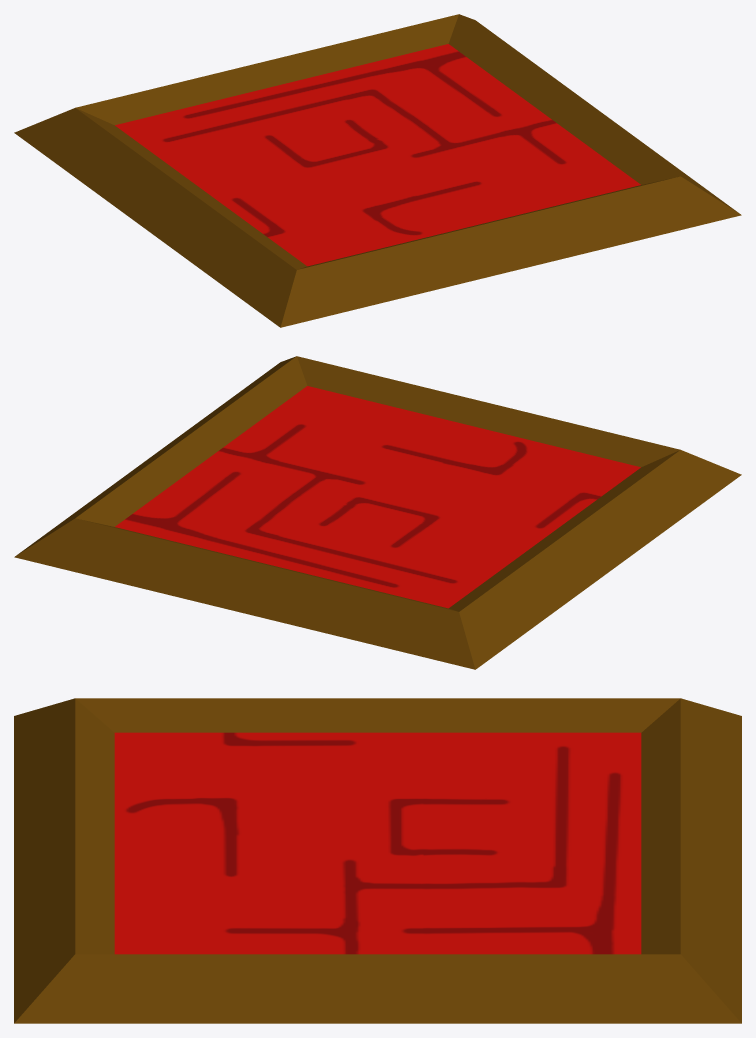
Rendered from Mesh_PreasurePlate.glb.
3 renders of one model, top to bottom at view 1: azimuth 30°, elevation 25°; view 2: azimuth 150°, elevation 25°; view 3: azimuth 270°, elevation 25°, orthographic. The views are drawn at different scales.
Parts seen in each view (by area): view 1: Cube.079; view 2: Cube.079; view 3: Cube.079.
Boxes of the visible parts, x1,y1,x2,y2 form: Cube.079: (14, 14, 741, 327); Cube.079: (14, 356, 741, 669); Cube.079: (14, 698, 741, 1023).
Bounding box in the file's own units: 8.57 × 0.5666 × 8.57.
Materials: 2 (1 with a texture image).
